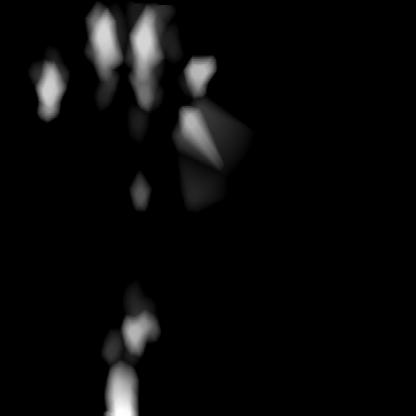fingers: (102, 356, 137, 414)
palm: (36, 3, 215, 148)
